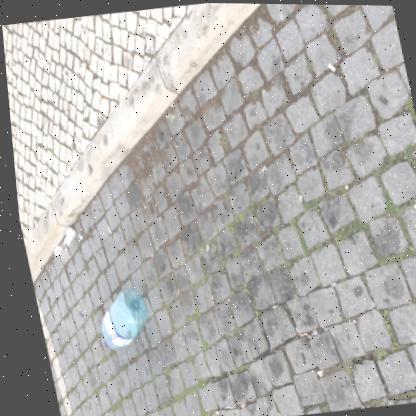Plastic: (95, 287, 141, 349)
Waste: (327, 60, 334, 69), (410, 200, 416, 210), (289, 326, 295, 335), (102, 223, 107, 233), (233, 401, 238, 407), (207, 408, 212, 413), (295, 330, 301, 334), (270, 410, 274, 416), (306, 330, 311, 334), (168, 101, 173, 105), (305, 327, 310, 330), (62, 254, 67, 257), (56, 244, 59, 249), (220, 404, 226, 406), (217, 404, 221, 407), (266, 304, 272, 306)
